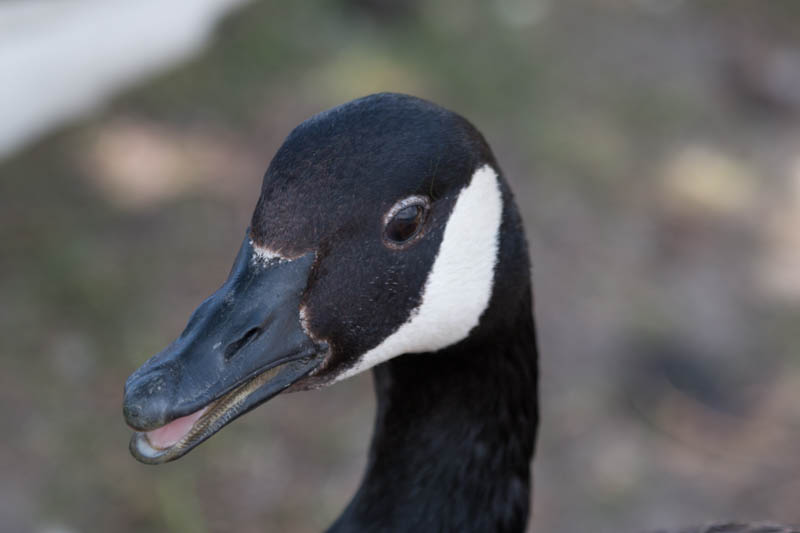goose-head: (121, 91, 534, 465)
